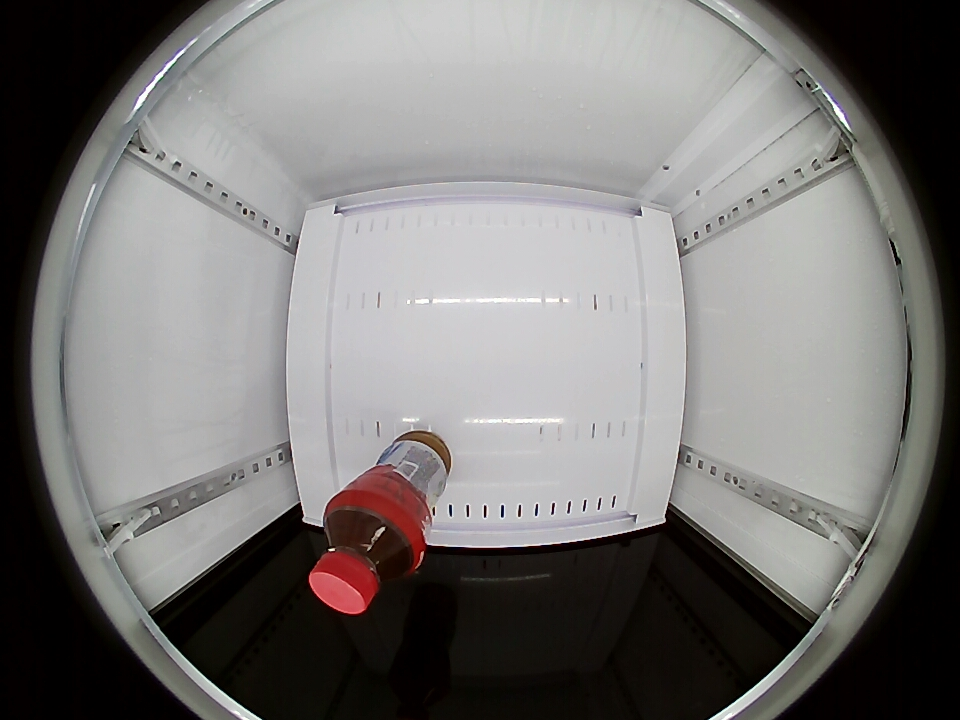binghongcha: (309, 490, 428, 614)
